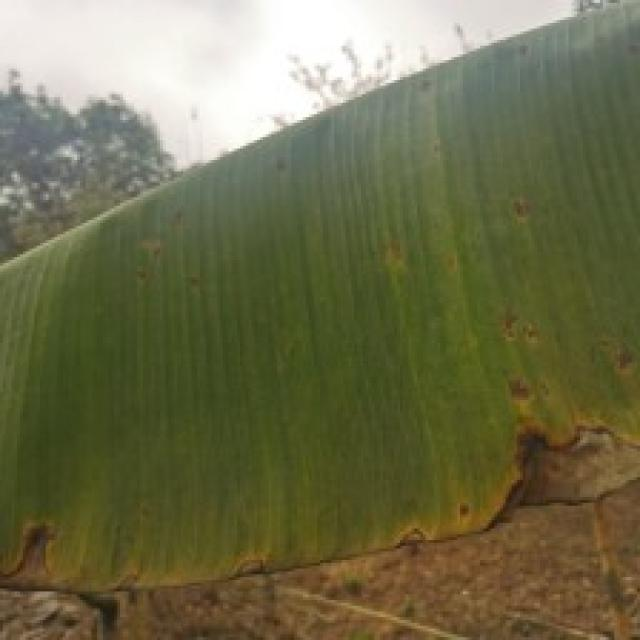Downey_mildrew: (349, 164, 640, 555), (0, 417, 343, 634)
